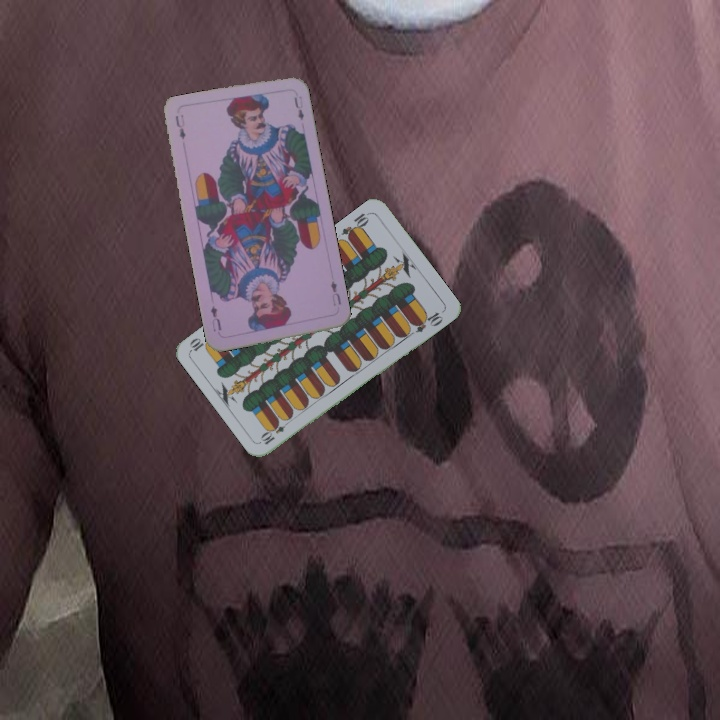E10: (338, 208, 373, 242), (257, 415, 293, 447)
EU: (171, 110, 188, 142), (326, 277, 344, 307)
